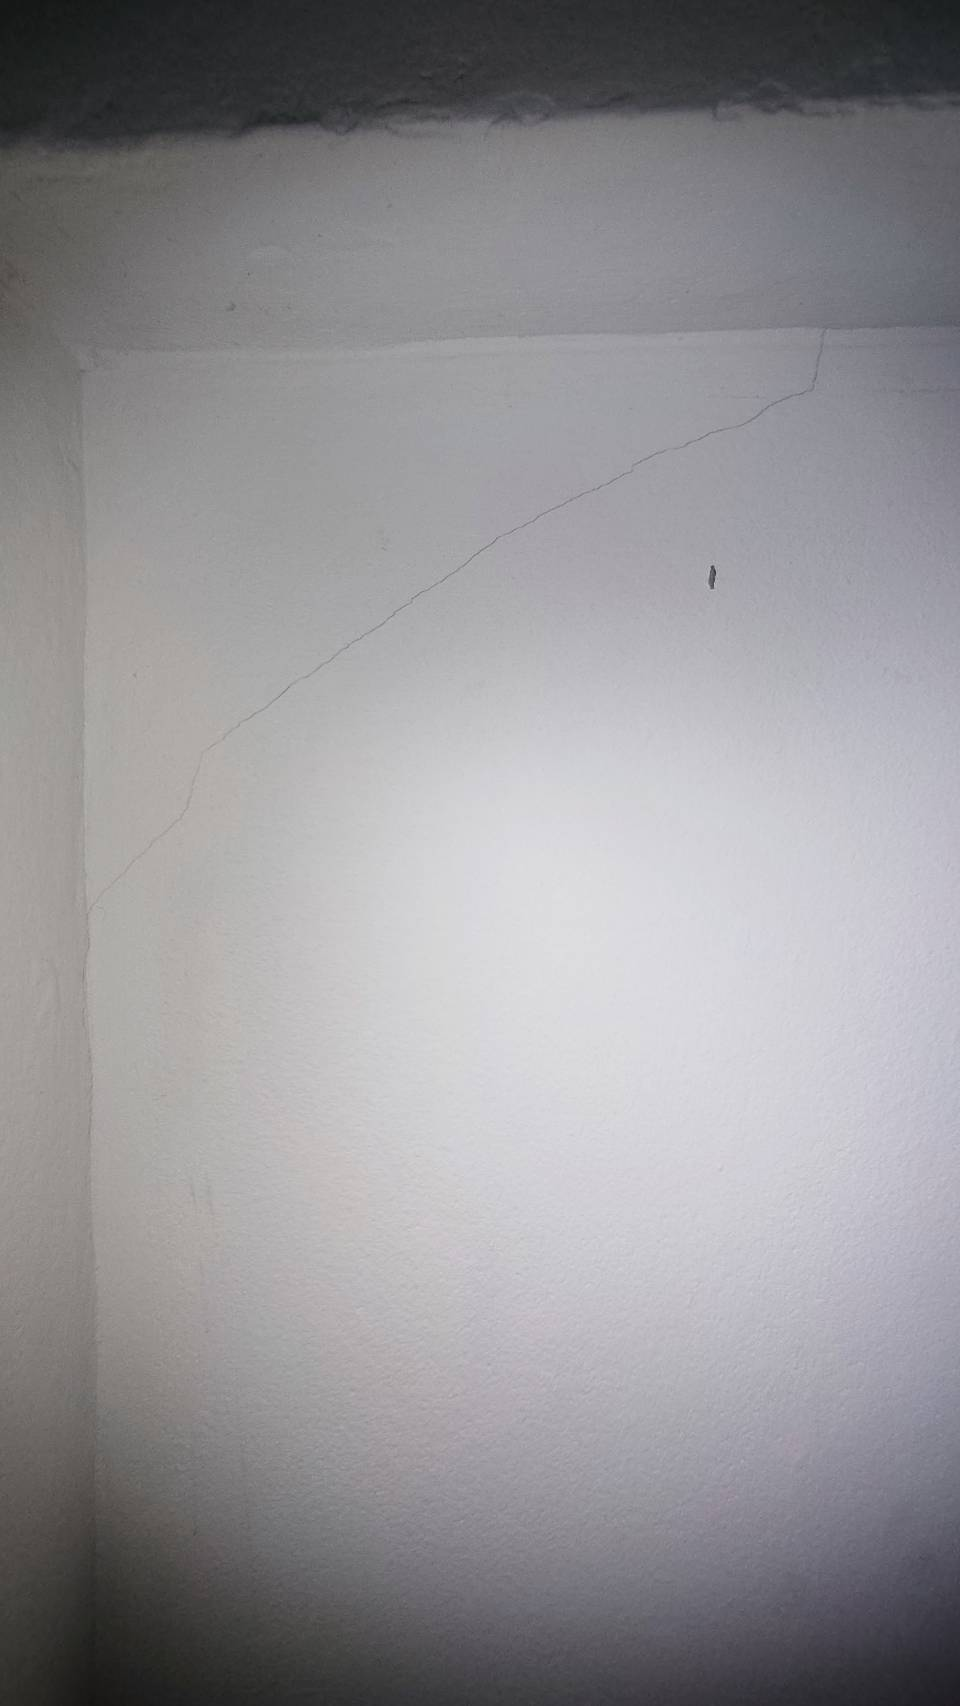Low: (90, 321, 864, 921)
